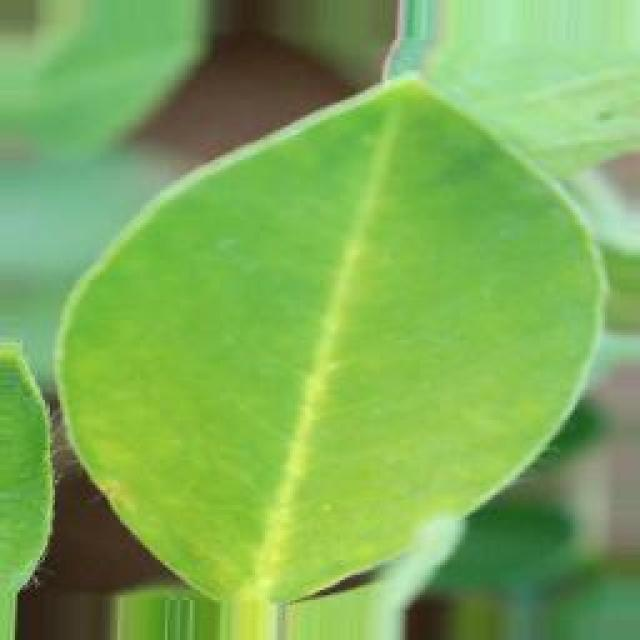Yellow_and_black_sigatoka: (52, 75, 606, 593)
